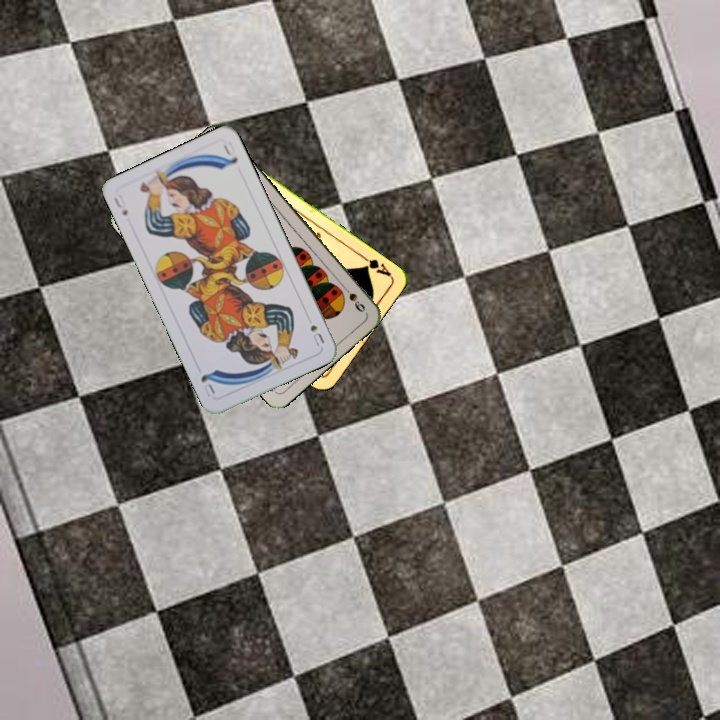GA: (357, 251, 394, 279)
S9: (338, 280, 368, 315)
SU: (306, 321, 327, 349), (110, 190, 130, 219)
